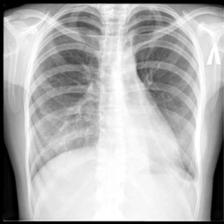tuberculosis: (21, 3, 203, 224)
